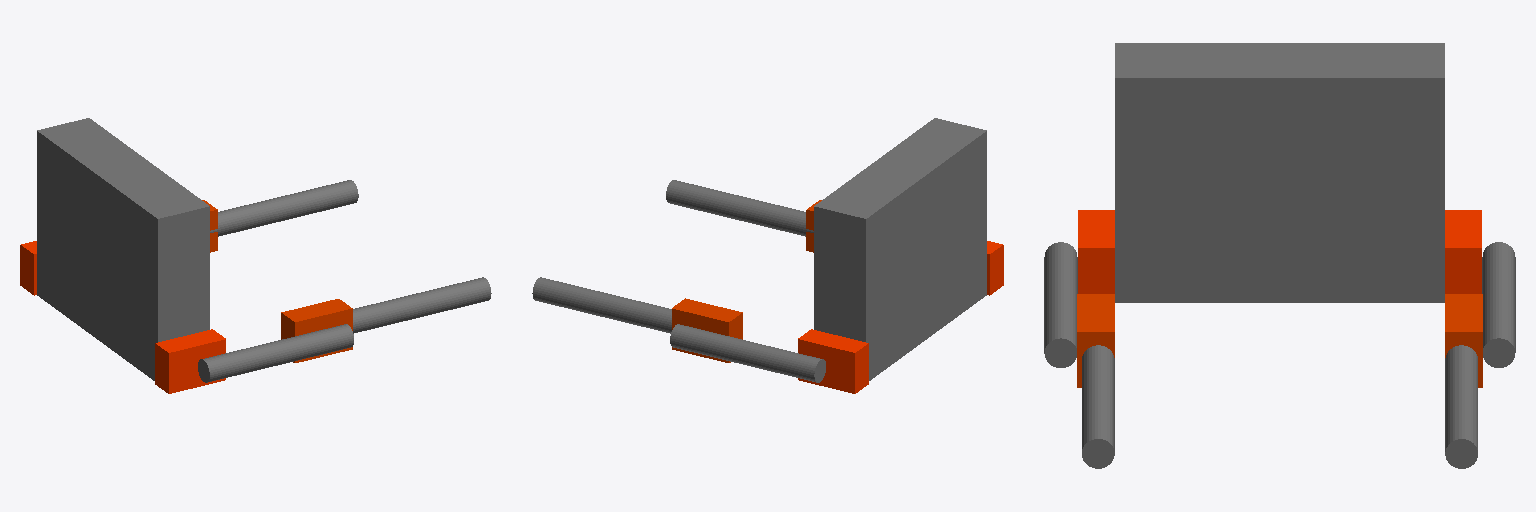
The robot description file, URDF, robot "flip_5link":
<robot name = "flip_5link">
  <material name = "link-color">
	<color rgba = "0.5 0.5 0.5 1" />
  </material>
  <material name = "Hebi-X-color">
    <color rgba = "1 0.27 0 1" />
  </material>
  <material name = "Hebi-X-color2">
    <color rgba = "0.9 0.3 0 1" />
  </material>


  <link name = "world">
  </link>

  <joint name="world_joint" type="revolute">
    <parent link="world"/>
    <child link="left_shank"/>
    <origin rpy="0.0 0.0 0.0" xyz="0.0 0.0 0.0"/>
    <limit lower="-1" upper="1" velocity="2.5" effort="0.0"/>
		<axis xyz = "0 1 0" />
  </joint>

  <link name = "left_shank">
		<inertial>
			<origin rpy = "0 -1.57075 0" xyz = "-0.1635 0 0" />
			<mass value = "0.3037" />
			<inertia ixx = "0.1" iyy = "0.1" izz = "0.00398"
	ixy = "0" ixz = "0" iyz = "0" />
		</inertial>
		<visual>
          <origin rpy = "0 -1.57075 0" xyz = "-0.1635 0 0"/> <!-- CoM frame rotate -->
			<geometry>
			  <cylinder radius = "0.02" length = "0.288"/> <!-- total 0.308 (cylinder + phere) -->
			</geometry>
			<material name = "link-color"/>
		</visual>
        <visual>
          <origin rpy = "0 0 0" xyz = "-0.01 0 0"/>
			<geometry>
			  <GeometryTypes.Sphere radius = "0.02"/>
			</geometry>
            <!-- <material name = "link-color"/> -->
            <material name = "Hebi-X-color"/>
        </visual>
  </link>


  <joint name = "left_knee" type = "revolute">
		<parent link = "left_shank" />
		<child link = "left_thigh" />
	    <origin rpy = "1.57075 0 0" xyz = "-0.308 0.045 0" /> <!-- relative to ankle joint -->
		<axis xyz = "0 0 1" />
        <limit lower="0.0" upper="0.548" velocity="0.5" effort="30.0"/>
  </joint>


  <link name = "left_thigh">
		<inertial>
			<origin rpy = "0  1.57075  0" xyz = "-0.0579 0 0" />  <!-- 0.2755-0.2176 -->
			<mass value = "0.8112" />
			<inertia ixx = "0.1" iyy = "0.1" izz = "0.00709"
	ixy = "0" ixz = "0" iyz = "0" />
		</inertial>
		<visual>
		    <origin rpy = "0  1.57075  0" xyz = "-0.1378 0 0"/> <!-- CoM relative to knee joint -->
			<geometry>
			  <cylinder radius = "0.02" length = "0.2755"  />
			</geometry>
			<material name = "link-color"/>
		</visual>
        <!-- Left knee motor -->
        <visual>
          <origin xyz = "-0.035  0  0.04225"/> <!-- 0.2755 - 0.2405  -->
          <geometry>
            <box size = "0.11 0.075 0.045" />
          </geometry>
          <material name = "Hebi-X-color2"/>
        </visual>
  </link>

  <joint name = "left_hip" type = "revolute">
		<parent link = "left_thigh" />
		<child link = "base" />
	    <origin rpy = "3.1416 0  0" xyz = "-0.2755 0 0" />
		<axis xyz = "0 0 1" />
        <limit lower="0.0" upper="0.548" velocity="0.5" effort="30.0"/>
  </joint>

  <link name = "base">
		<inertial>
			<origin rpy = "1.57075 0 0" xyz = "0 -0.1125 -0.265" />
			<mass value = "5.354" />
			<inertia ixx = "0.1" iyy = "0.02517" izz = "0.5"
                     ixy = "0" ixz = "0" iyz = "0" />
		</inertial>
		<visual>
			<origin rpy = "1.57075 0 0" xyz = "0 -0.1125 -0.265" />
			<geometry>
			  <box size = "0.1 0.4 0.3" />
			</geometry>
            <material name = "link-color"/>
		</visual>
        <!-- Left hip motor -->
        <visual>
          <origin rpy = "1.57075 0 0" xyz = "0 0 -0.0425" /> <!--0.265-0.2225-->
          <geometry>
            <box size = "0.11 0.045 0.075" />
          </geometry>
          <material name = "Hebi-X-color"/>
        </visual>
        <!-- Right hip motor -->
        <visual>
          <origin rpy = "1.57075 0 0" xyz = "0 0 -0.4875" /> <!--0.265+0.2225-->
          <geometry>
            <box size = "0.11 0.045 0.075" />
          </geometry>
          <material name = "Hebi-X-color"/>
        </visual>
  </link>

  <joint name = "right_hip" type = "revolute">
		<parent link = "base" />
		<child link = "right_thigh" />
	    <origin rpy = "3.1416 0  0" xyz = "0. 0 -0.53" /> <!--relative to last joint-->
		<axis xyz = "0 0 1" />
        <limit lower="0.0" upper="0.548" velocity="0.5" effort="30.0"/>
  </joint>

  <link name = "right_thigh">
		<inertial>
			<origin rpy = "0 1.57075 0" xyz = "0.2176 0 0" />
			<mass value = "0.8112" />
			<inertia ixx = "0.1" iyy = "0.1" izz = "0.00709"
	ixy = "0" ixz = "0" iyz = "0" />
		</inertial>
		<visual>
          <origin rpy = "0 1.57075 0" xyz = "0.138 0 0"/>
			<geometry>
			  <cylinder radius = "0.02" length = "0.2755"  />
			</geometry>
			<material name = "link-color"/>
		</visual>
        <!-- right knee motor -->
        <visual>
          <origin xyz = "0.2405 0 -0.04225"/>
          <geometry>
            <box size = "0.11 0.075 0.045" />
          </geometry>
          <material name = "Hebi-X-color2"/>
        </visual>
  </link>

  <joint name = "right_knee" type = "revolute">
		<parent link = "right_thigh" />
		<child link = "right_shank" />
	    <origin rpy = "3.141592 0 0" xyz = "0.2755 0 -0.045" />
		<axis xyz = "0 0 1" />
        <limit lower="0.0" upper="0.548" velocity="0.5" effort="30.0"/>
  </joint>

  <link name = "right_shank">
		<inertial>
			<origin xyz = "0.1445 0 0" />
			<mass value = "0.3037" />
			<inertia ixx = "0.1" iyy = "0.1" izz = "0.00398"
	ixy = "0" ixz = "0" iyz = "0" />
		</inertial>
		<visual>
          <origin rpy = "0 1.57075 0" xyz = "0.144 0 0"/>
			<geometry>
			  <cylinder radius = "0.02" length = "0.288"/> <!-- total 0.308 (cylinder + phere) -->
			</geometry>
			<material name = "link-color"/>
		</visual>
        <visual>
          <origin rpy = "0 0 0" xyz = "0.288 0 0"/>
			<geometry>
			  <GeometryTypes.Sphere radius = "0.02"/>
			</geometry>
            <!-- <material name = "link-color"/> -->
            <material name = "Hebi-X-color"/>
        </visual>
  </link>








</robot>

--- Facts derived from the render (not from the file) ---
Views: 3 orthographic renders of the robot side by side, from view 1: azimuth 30°, elevation 25°; view 2: azimuth 150°, elevation 25°; view 3: azimuth 270°, elevation 25°.
Model flip_5link with 6 links and 5 joints (5 revolute), rooted at world, posed every joint at zero.
Visible links, largest first — view 1: base, right_thigh, left_shank, right_shank; view 2: base, left_thigh, right_shank, left_shank; view 3: base, left_thigh, right_thigh, left_shank, right_shank.
Boxes of the visible links, x1=… form: base: x1=20, y1=118, x2=225, y2=393; right_thigh: x1=198, y1=299, x2=353, y2=382; left_shank: x1=210, y1=180, x2=358, y2=236; right_shank: x1=353, y1=277, x2=491, y2=333; base: x1=798, y1=118, x2=1003, y2=393; left_thigh: x1=670, y1=298, x2=825, y2=382; right_shank: x1=666, y1=180, x2=813, y2=236; left_shank: x1=532, y1=277, x2=671, y2=333; base: x1=1078, y1=43, x2=1481, y2=302; left_thigh: x1=1445, y1=242, x2=1515, y2=387; right_thigh: x1=1044, y1=242, x2=1114, y2=387; left_shank: x1=1445, y1=345, x2=1477, y2=468; right_shank: x1=1082, y1=345, x2=1114, y2=468.
Bounding box of the posed robot: 0.619 × 0.57 × 0.3 m (x, y, z).
Geometry: primitives only (box / cylinder / sphere), no mesh files.